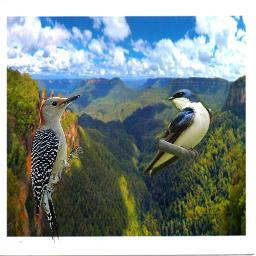Swallow: (141, 88, 214, 178)
Woodpecker: (31, 91, 85, 245)
